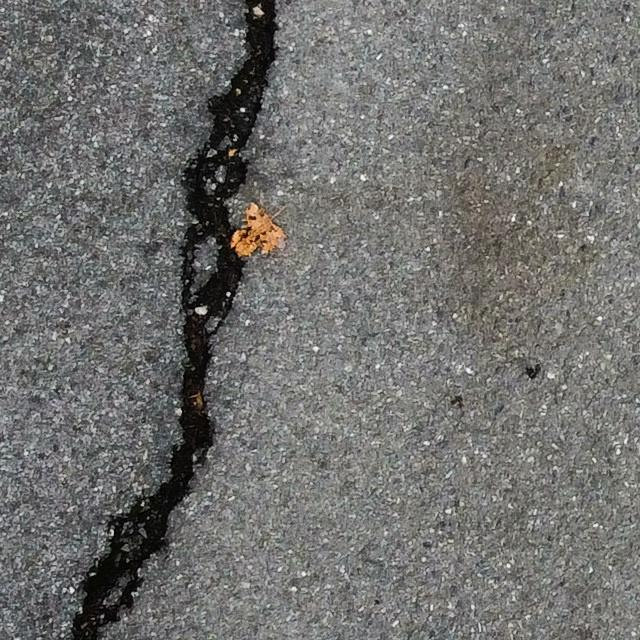LongitudinalCrack: (74, 1, 279, 640)
